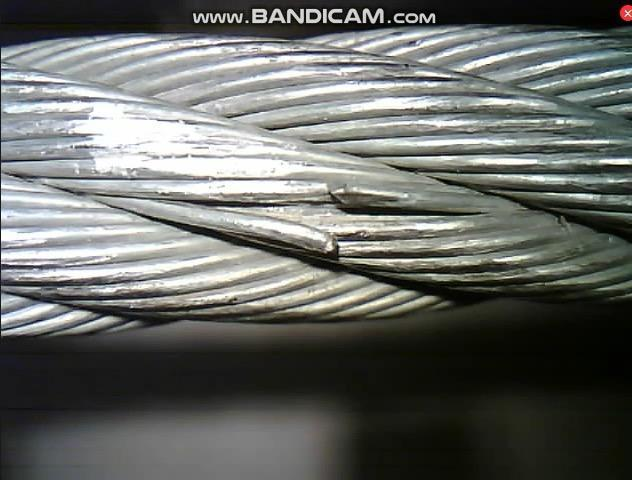break: (284, 171, 385, 268)
